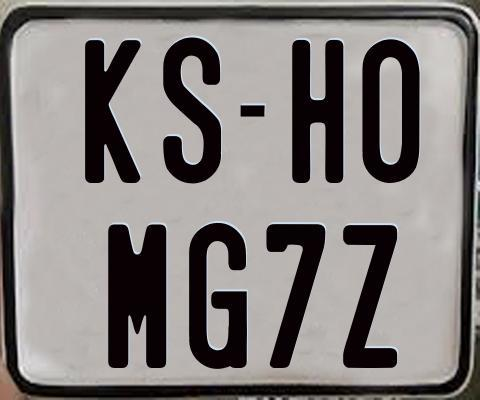0: (361, 39, 424, 183)
7: (264, 222, 329, 367)
G: (187, 221, 250, 372)
H: (290, 39, 343, 183)
K: (84, 37, 145, 185)
M: (105, 223, 164, 370)
S: (160, 37, 218, 184)
Z: (340, 224, 400, 373)
